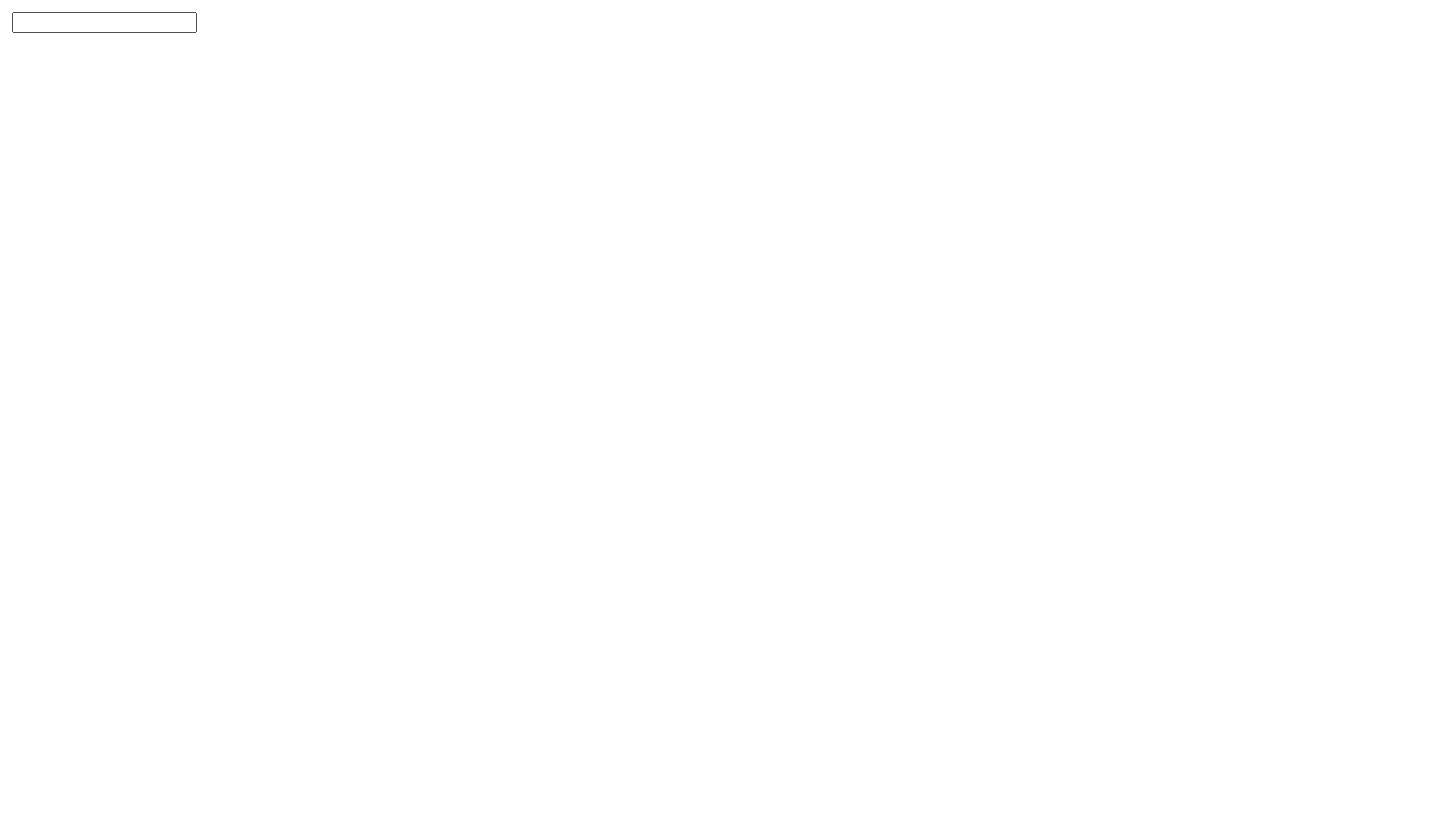
it: note card › keeps the card open with its text when the note is full
Type keys "n"
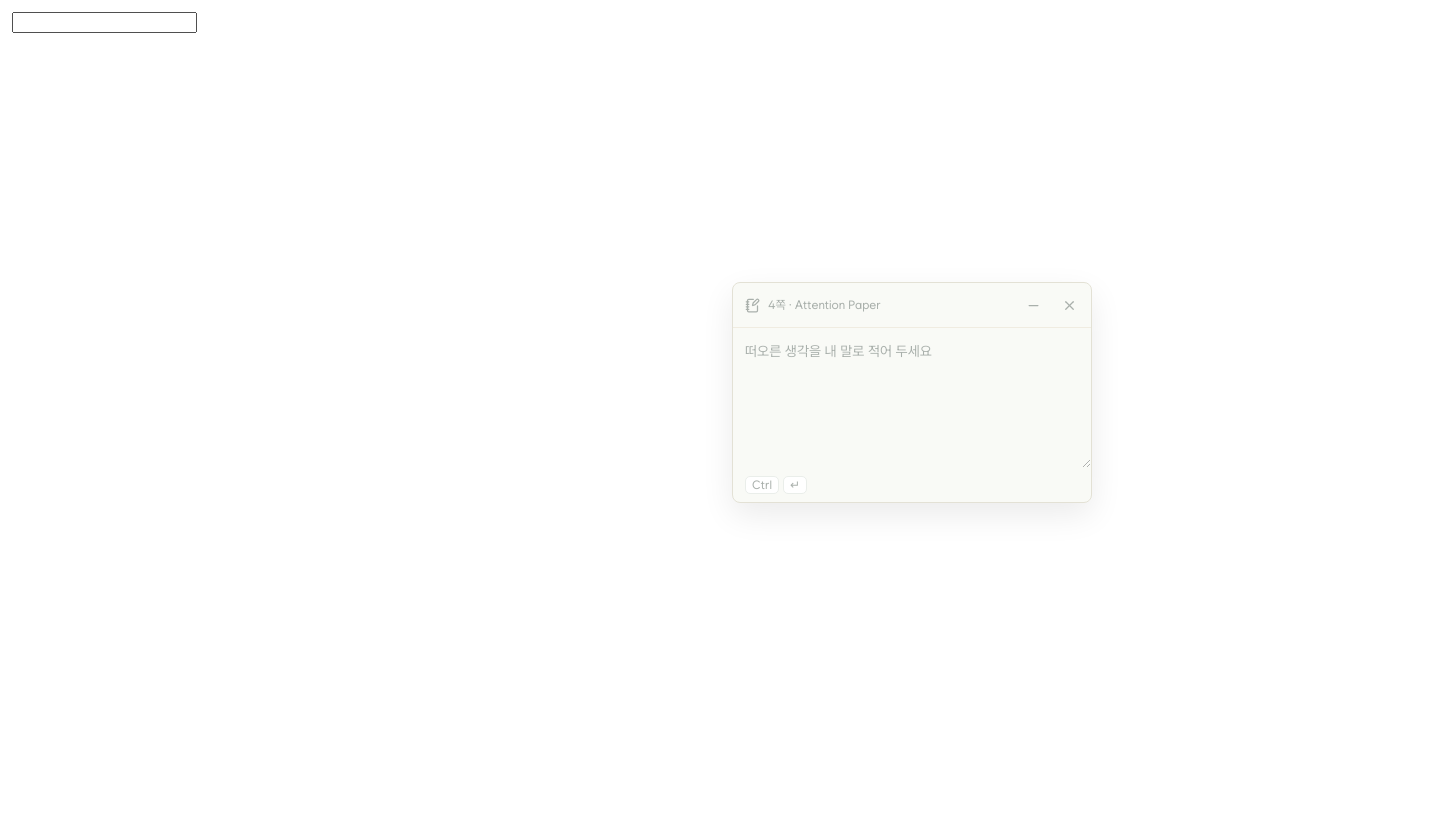
The card follows the pointer until a click puts it down.
Click the element showing "4쪽 · Attention Paper Ctrl ↵".
click(732, 417)  # box x1=12 y1=12 x2=1451 y2=821
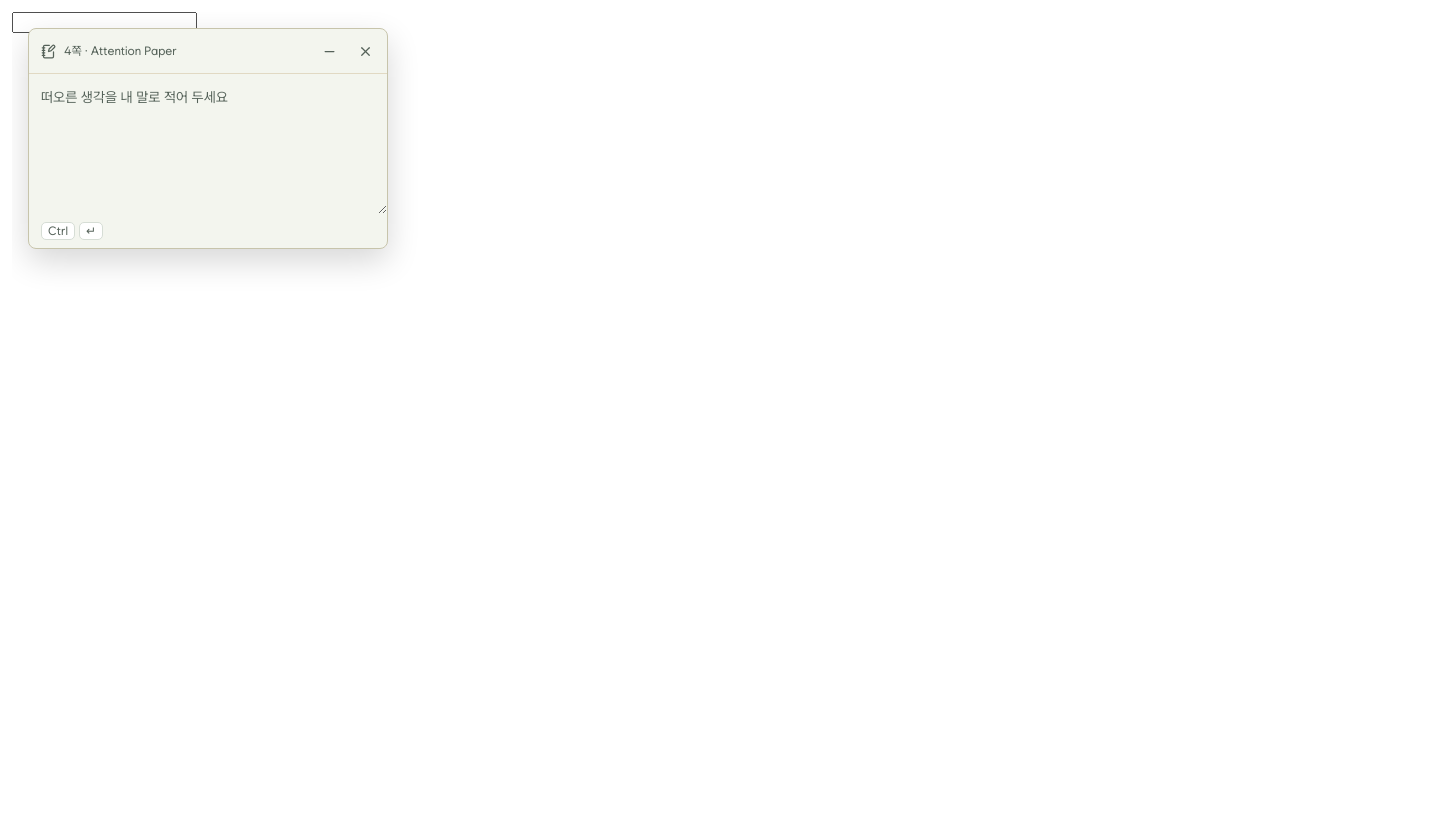
Type keys "한 줄 더"
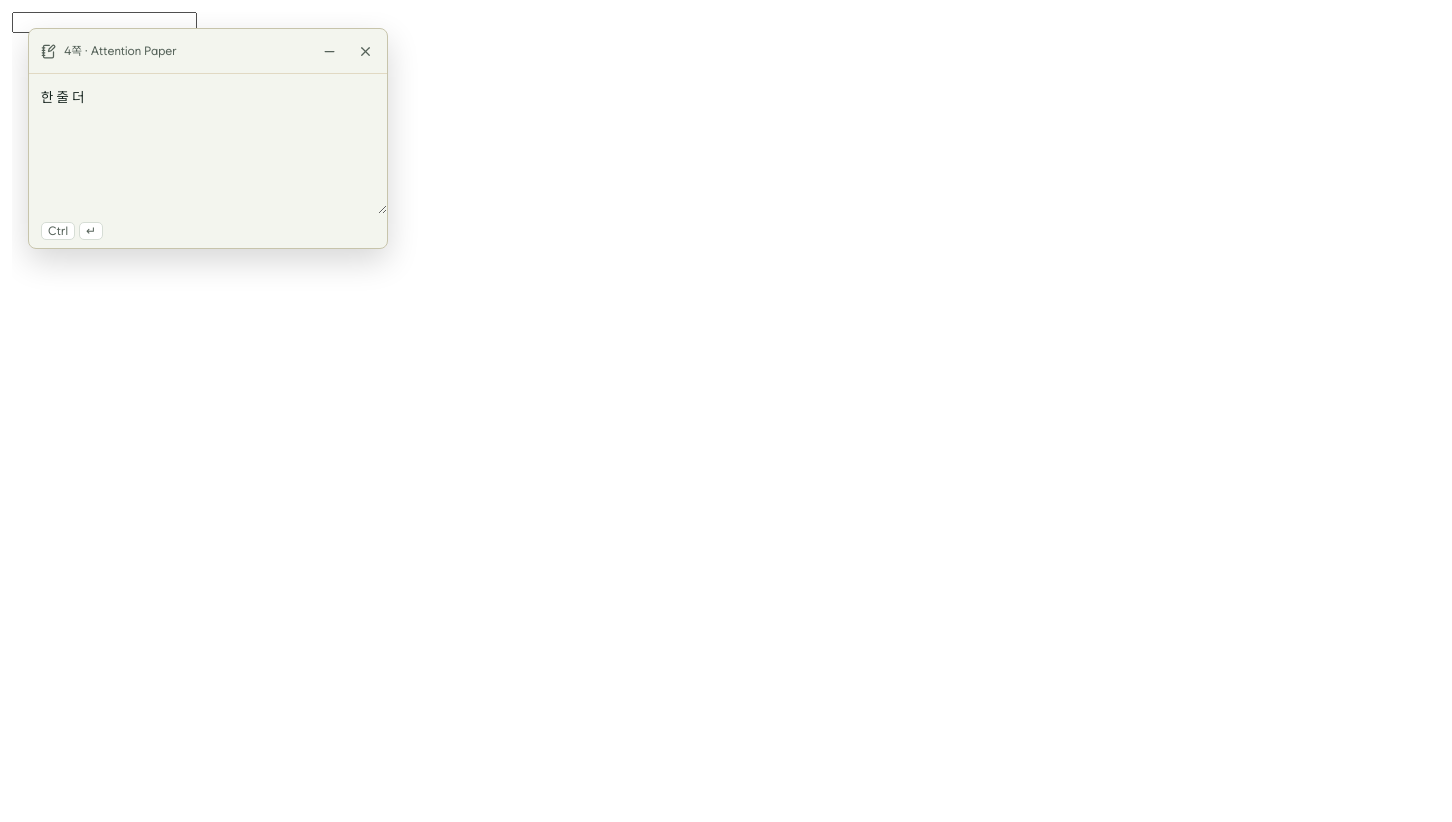
Type keys "{Meta>}{Enter}{/Meta}"
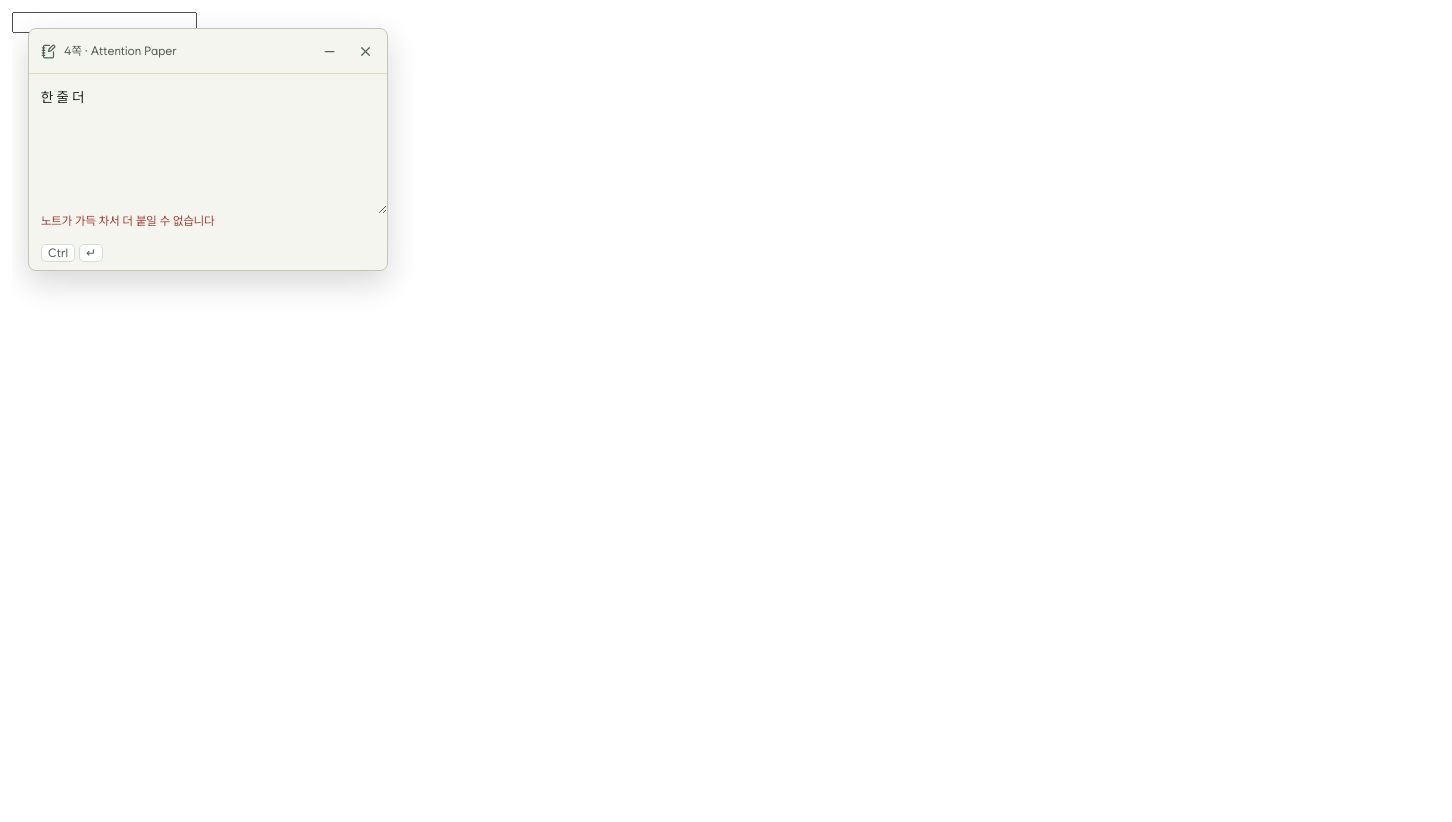
Check: the text box named "노트 카드 내용" holds "한 줄 더", box x1=29 y1=74 x2=387 y2=214
Check: the message reads "노트가 가득 차서 더 붙일 수 없습니다", box x1=41 y1=214 x2=215 y2=228
